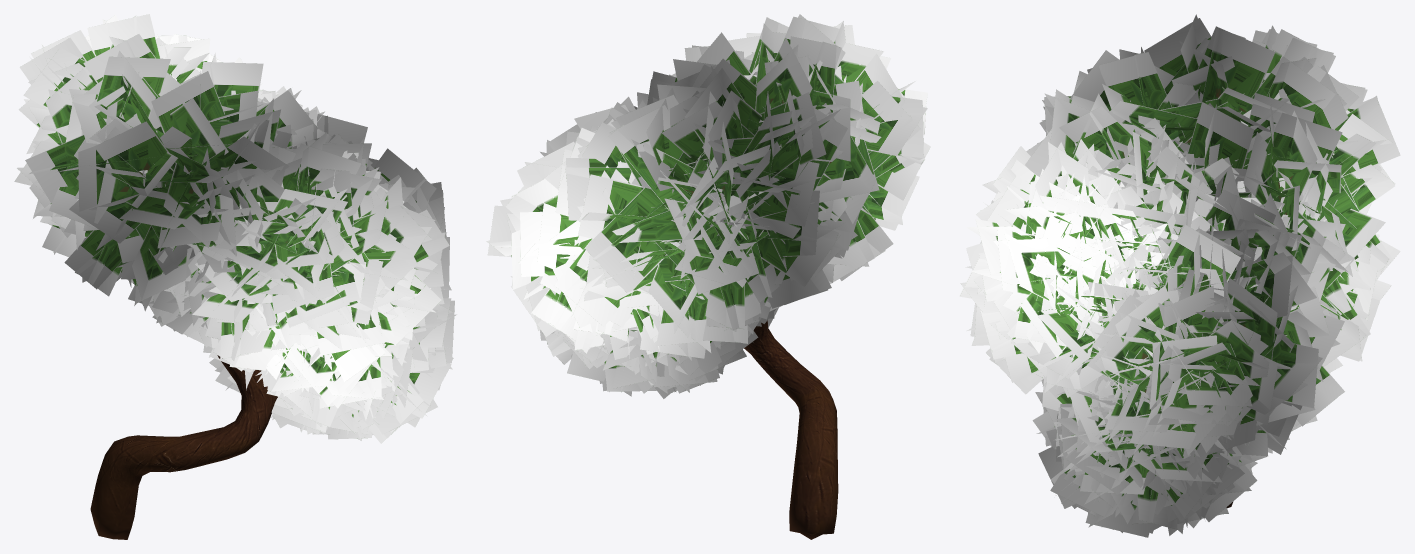
The model's file is tree_green.FBX.
The picture shows the model from 3 angles, left to right: view 1: azimuth 30°, elevation 25°; view 2: azimuth 150°, elevation 25°; view 3: azimuth 270°, elevation 25°; orthographic projection.
Visible parts, largest first — view 1: greenTree_LOD0; view 2: greenTree_LOD0; view 3: greenTree_LOD0.
Part boxes in pixels (bbox=[...]): greenTree_LOD0: bbox=[14, 14, 456, 539]; greenTree_LOD0: bbox=[486, 14, 930, 539]; greenTree_LOD0: bbox=[959, 14, 1400, 537].
Size of what is drawn, in the model's own units: 2382 by 2925 by 2364.
Materials: 2 (2 with a texture image).
